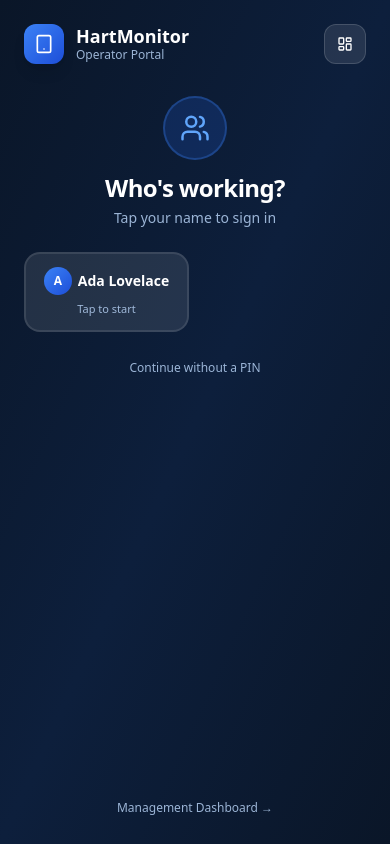
Test: the jobs tab lists what this operator should run next › asks the server for the queue at the station this tablet is standing at
What coordinates should you click on to do the following:
click the text "Ada Lovelace"
I would click on:
 (124, 281)
Its box is [78,271,169,291].
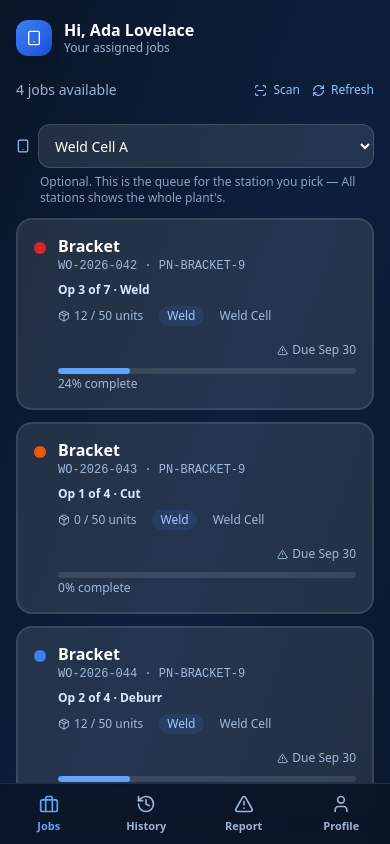
Now the text "4 jobs available" is shown, box [16,80,117,100]
